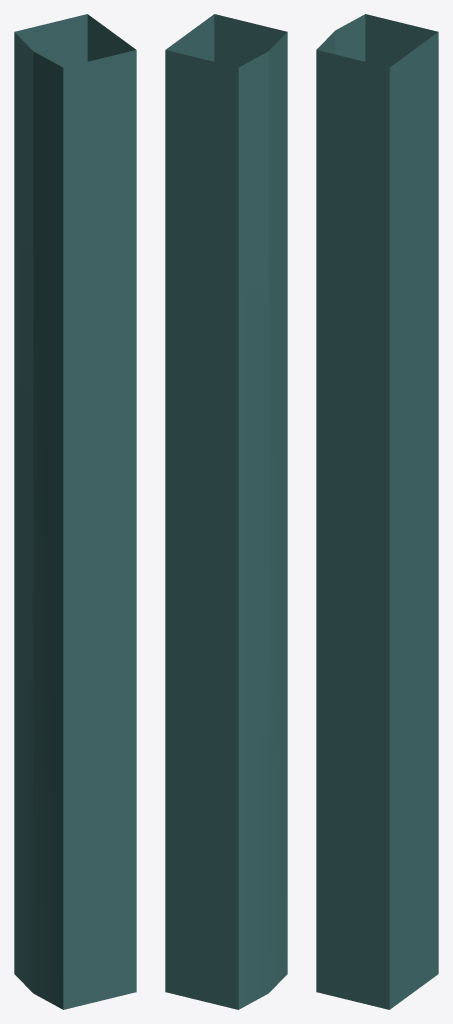
Rendered from ArchwayBeam1.fbx.
3 views of the same model, side by side, from view 1: azimuth 30°, elevation 25°; view 2: azimuth 150°, elevation 25°; view 3: azimuth 330°, elevation 25° (orthographic).
Visible parts, largest first — view 1: ArchwayBeam1; view 2: ArchwayBeam1; view 3: ArchwayBeam1.
Boxes of the visible parts, box(x1,y1,x2,y2) form: ArchwayBeam1: box(14, 14, 136, 1009); ArchwayBeam1: box(165, 14, 287, 1009); ArchwayBeam1: box(316, 14, 438, 1009).
Bounding box in the file's own units: 17.52 × 200 × 18.87.
